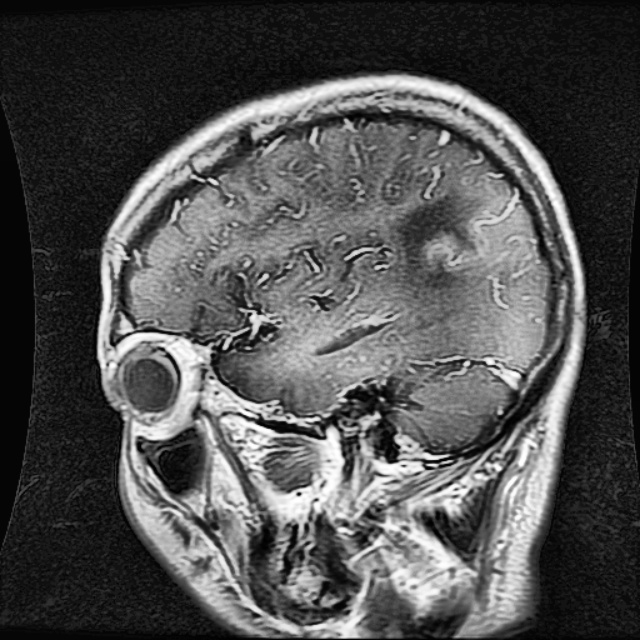Meningioma: (397, 185, 497, 270)
